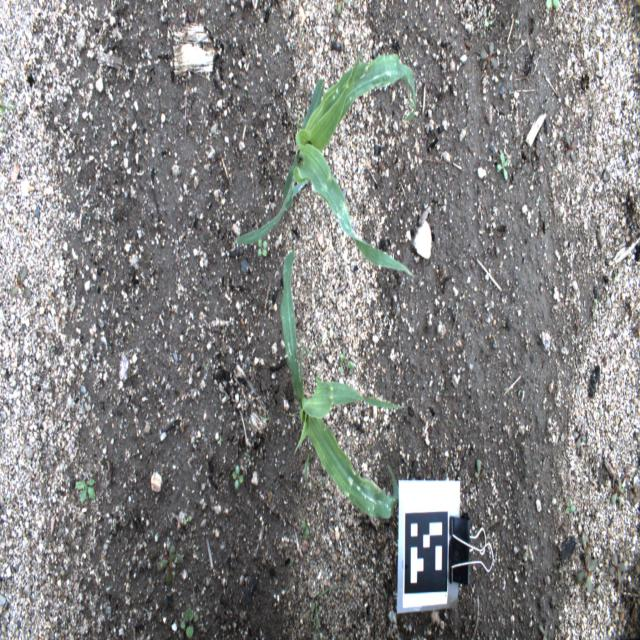crop: (234, 49, 417, 276), (280, 248, 408, 519)
weed: (307, 585, 343, 633), (156, 546, 182, 586), (574, 556, 600, 594), (478, 40, 500, 76), (9, 268, 31, 300), (181, 604, 200, 639), (74, 476, 97, 504), (608, 551, 625, 587), (612, 477, 626, 510), (496, 150, 510, 182), (571, 423, 587, 449), (564, 134, 578, 162), (230, 467, 245, 491), (338, 351, 355, 371), (474, 457, 485, 486), (582, 529, 589, 573), (329, 15, 339, 41), (629, 480, 639, 504), (258, 239, 268, 258), (565, 496, 574, 516), (545, 0, 559, 12), (337, 0, 349, 14), (302, 519, 310, 539), (182, 514, 193, 527), (612, 271, 620, 283), (383, 590, 388, 602), (289, 557, 294, 568), (594, 297, 598, 309), (244, 452, 251, 458)
